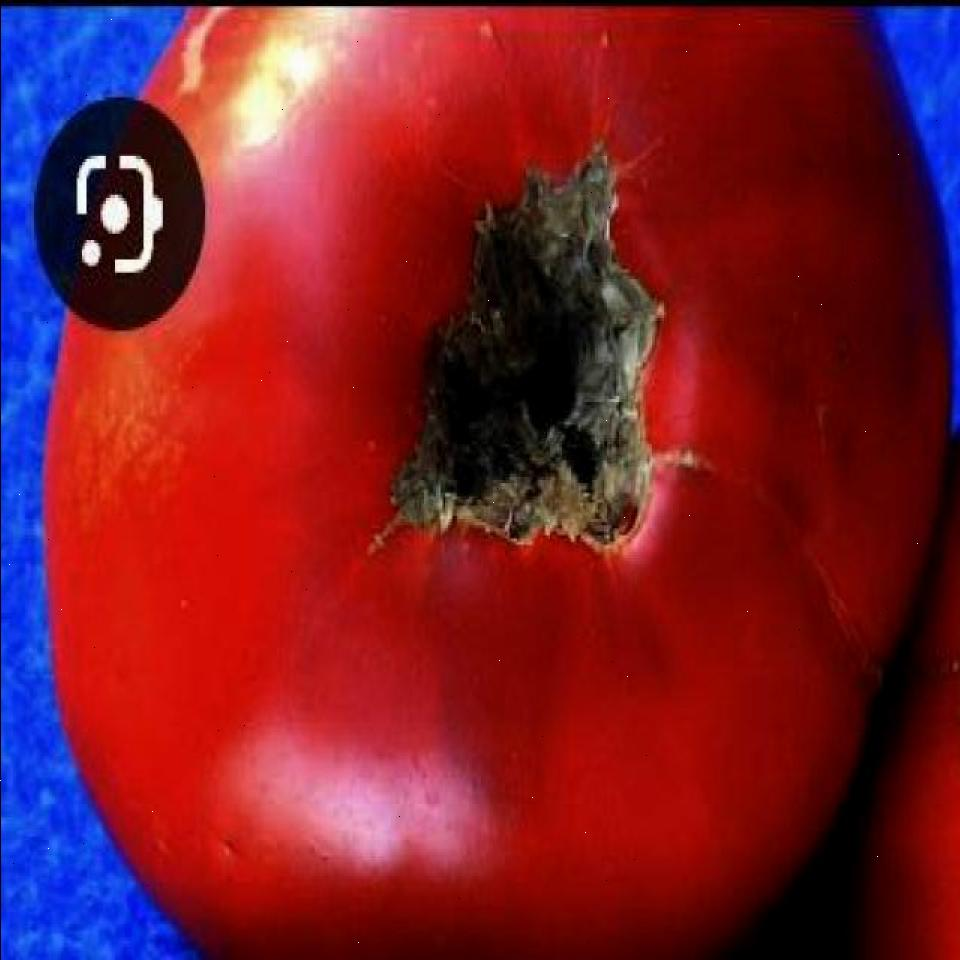Blossom_end_rot: (384, 138, 676, 554)
